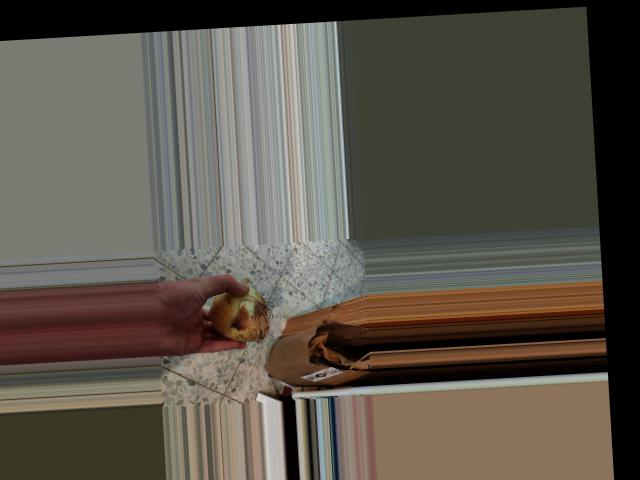onion: (201, 275, 272, 345)
